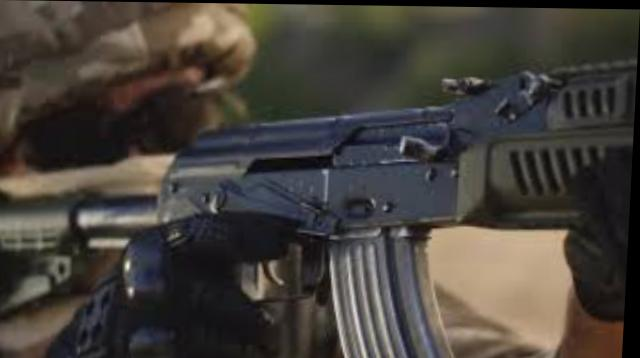other: (0, 0, 266, 356)
